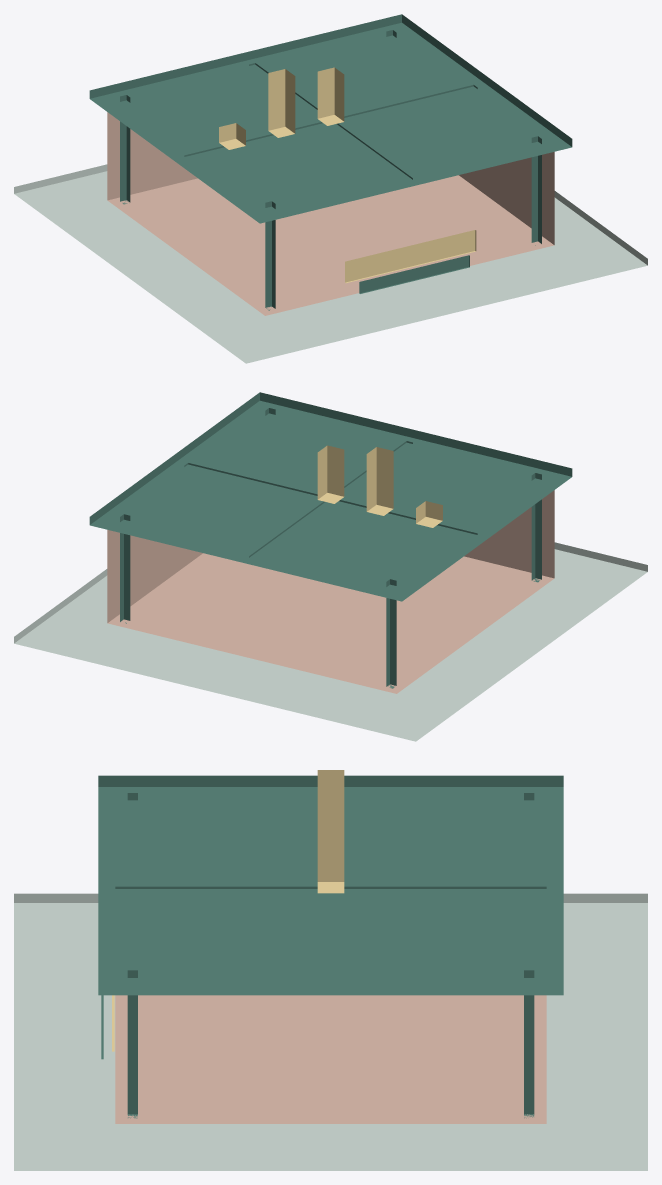
File: creamery.glb
3 renders of one model, top to bottom at view 1: azimuth 30°, elevation 25°; view 2: azimuth 150°, elevation 25°; view 3: azimuth 270°, elevation 25°, orthographic. The views are drawn at different scales.
Visible parts, largest first — view 1: Roof, Walls, Foundation, Details, Frame; view 2: Roof, Walls, Foundation, Details, Frame; view 3: Roof, Foundation, Walls, Frame, Details.
Part boxes in pixels (x1,y1,x2,y2): Roof: (89,14,572,223); Walls: (107,112,554,315); Foundation: (14,164,647,363); Details: (219,67,476,293); Frame: (120,30,541,310); Roof: (89,392,572,601); Walls: (107,490,554,693); Foundation: (14,542,647,741); Details: (317,445,442,527); Frame: (120,408,541,688); Roof: (98,775,563,995); Foundation: (14,893,647,1170); Walls: (115,995,546,1123); Frame: (115,793,546,1118); Details: (101,770,344,1059).
Size of the model in its own units: 40 by 15.9 by 40.
